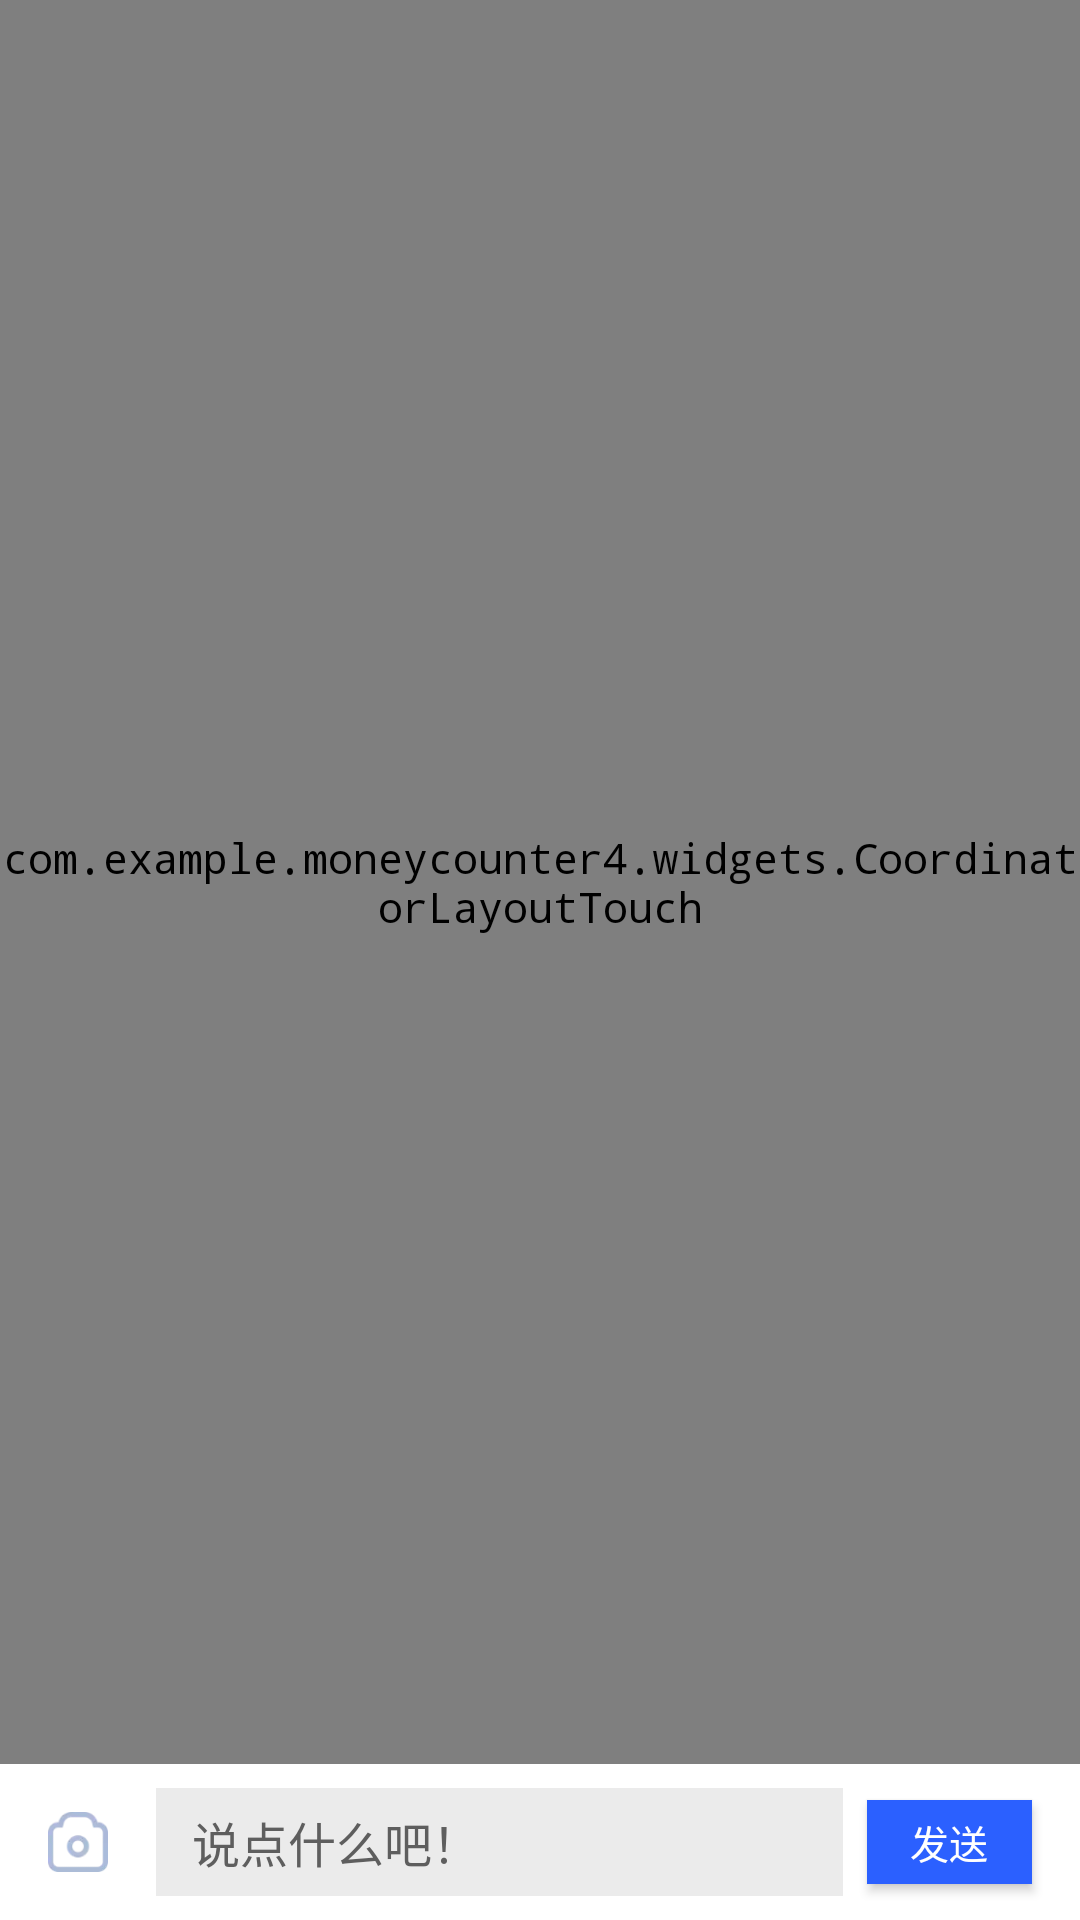

Icon bounding boxes for this 1080x1920 phone screenshot, format (left=x1, top=y1, right=x2, bottom=y2):
camera: (left=48, top=1812, right=108, bottom=1872)
